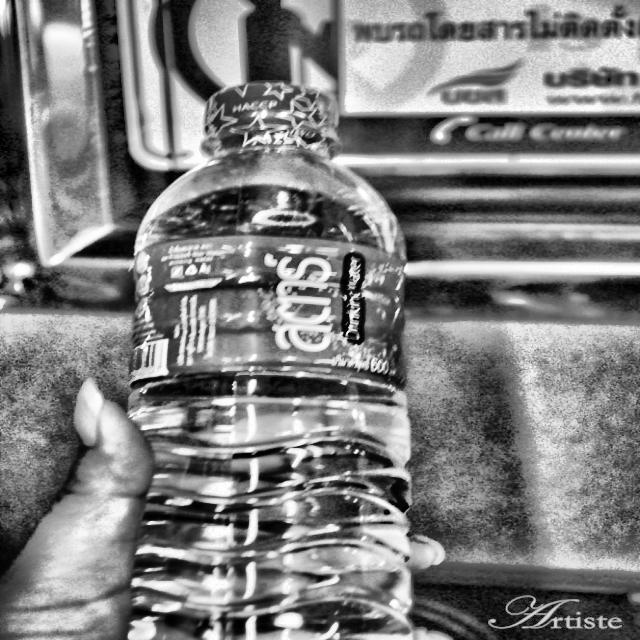waterbottle: (110, 73, 430, 639)
